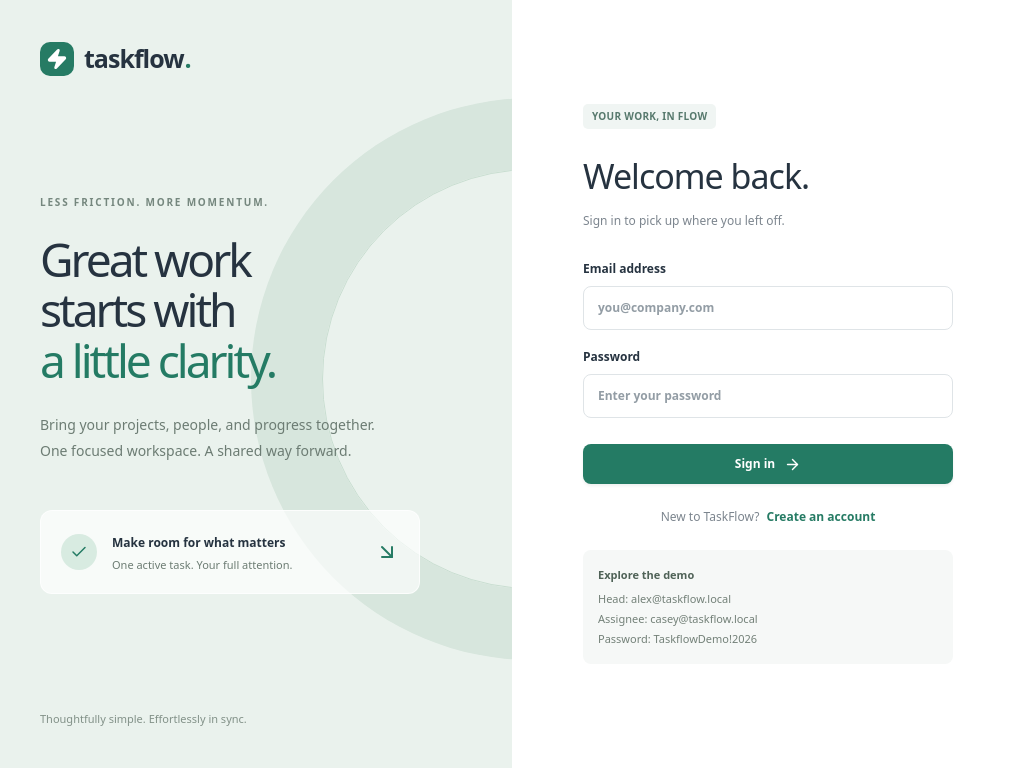
Test: Critical frontend flows › redirects after successful login and logout without losing the session query observer
Expected: the heading "Welcome back." is shown, x1=583 y1=153 x2=809 y2=199
Type "alex@example.test" into the field labelled "Email address" at (768, 308), box x1=583 y1=286 x2=953 y2=330
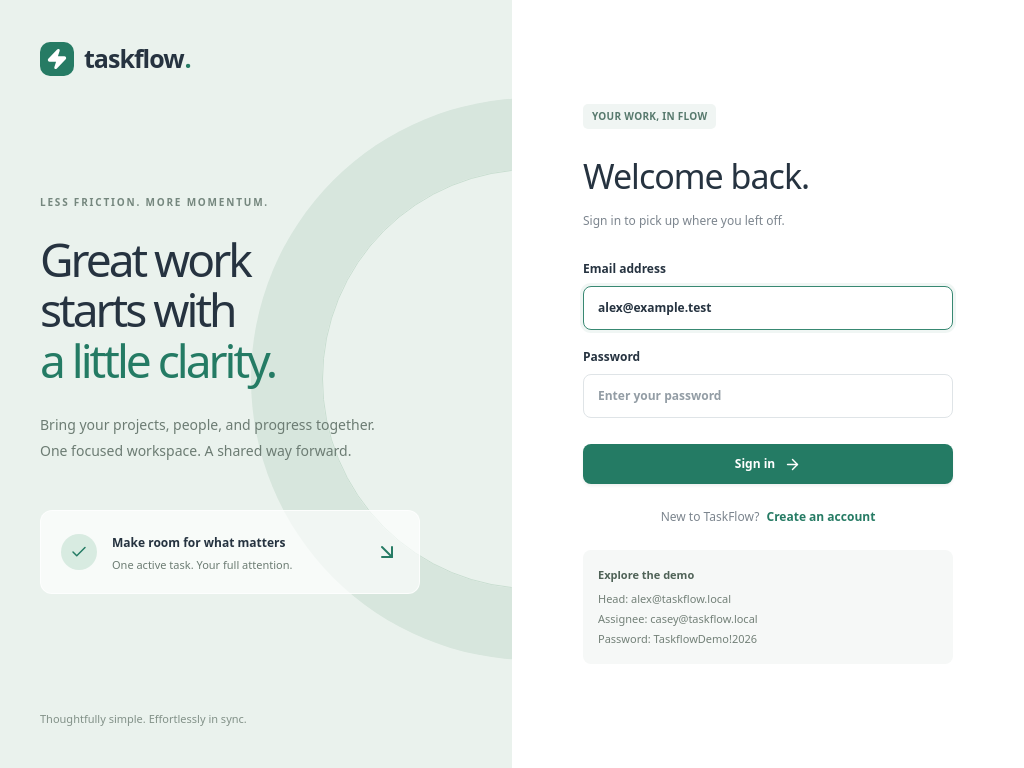
Type "SecurePass!2026" into the password field labelled "Password" at (768, 396), box x1=583 y1=374 x2=953 y2=418
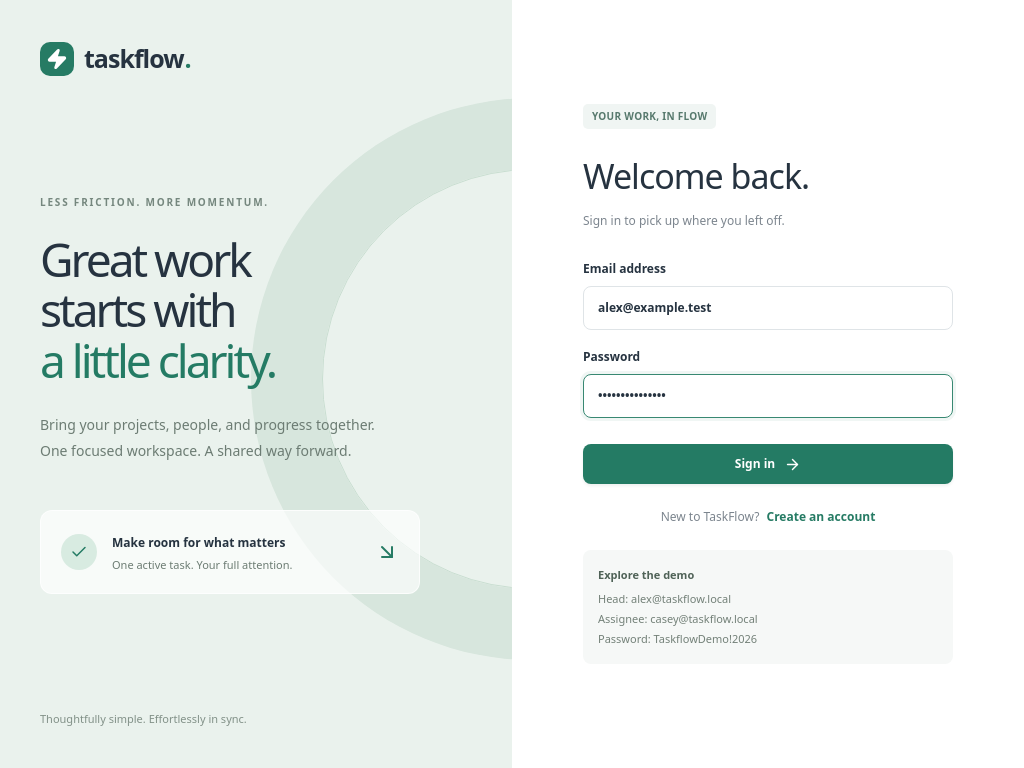
Click the button "Sign in" at (768, 464), box x1=583 y1=444 x2=953 y2=484
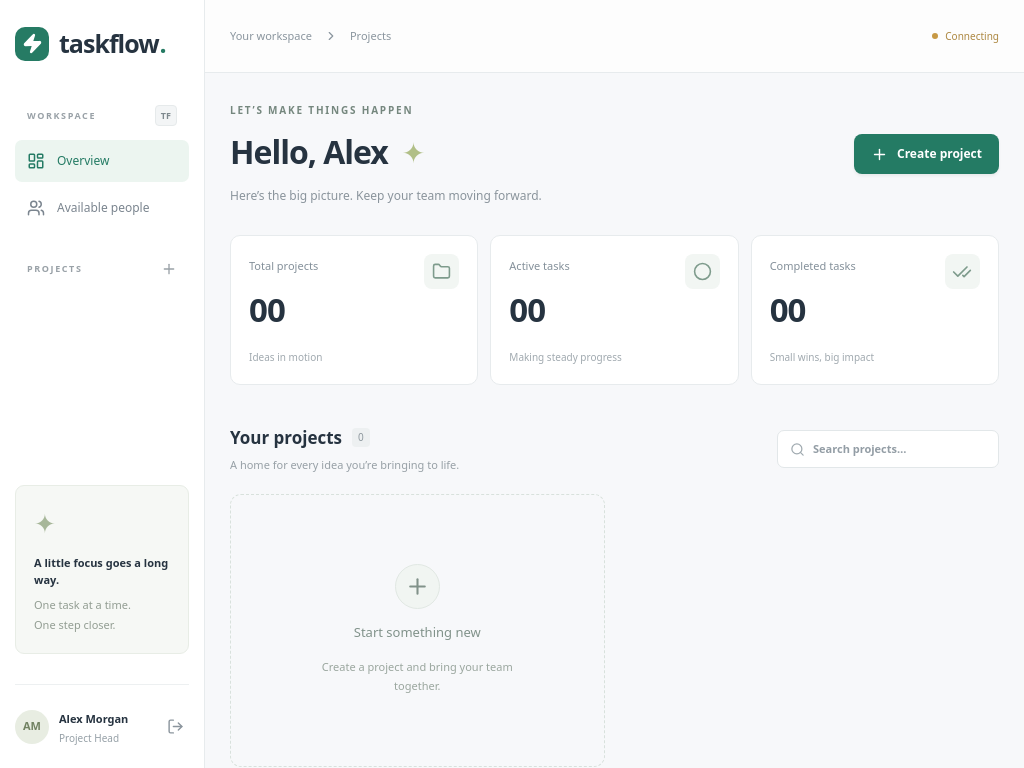
Result: the heading "Hello, Alex ✦" is shown at x1=230 y1=130 x2=424 y2=173
Click the button named "Log out" at (176, 726), box x1=162 y1=713 x2=189 y2=740
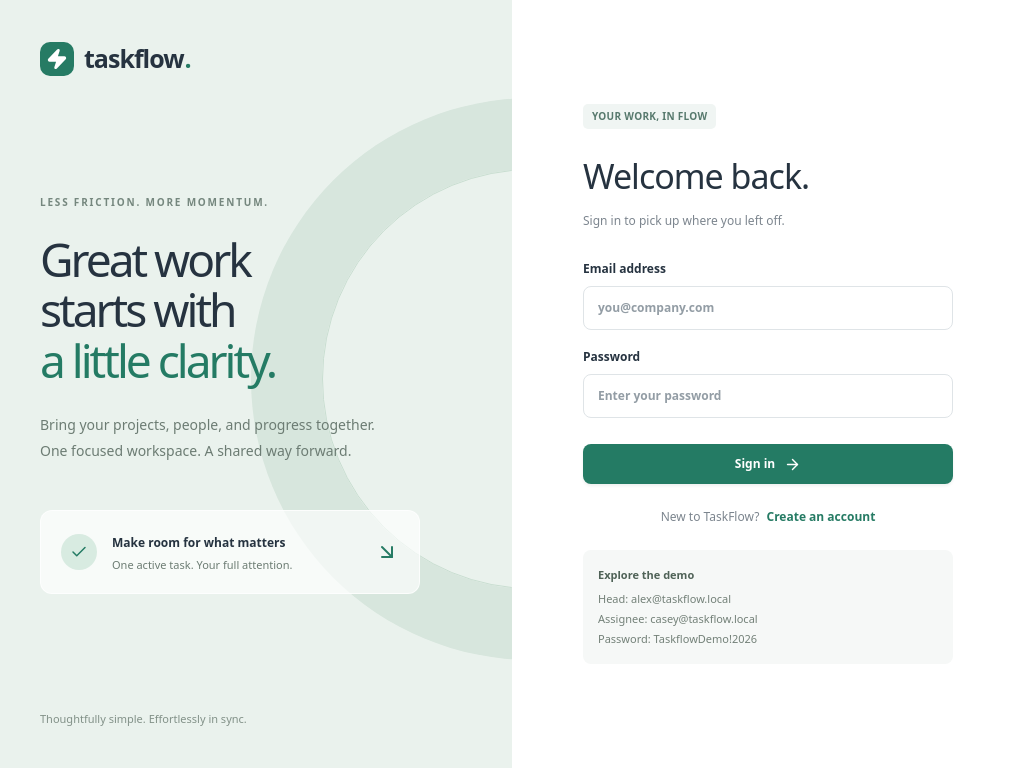
Result: the heading "Welcome back." is shown at x1=583 y1=153 x2=809 y2=199
